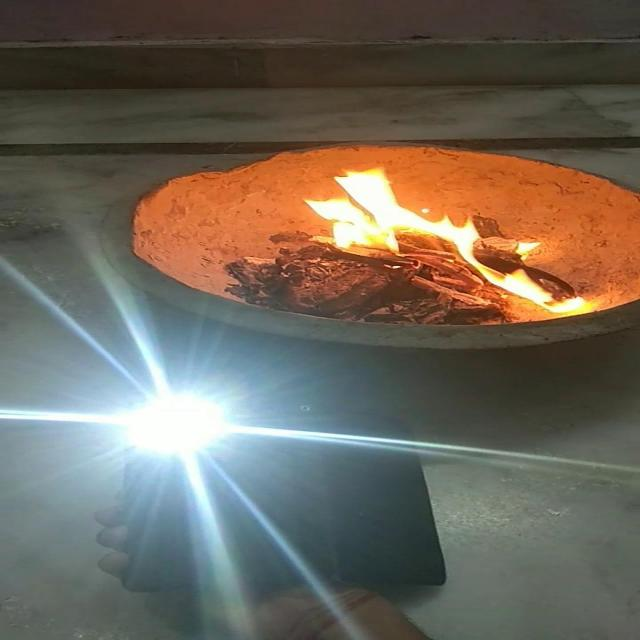fire: (292, 166, 591, 312)
